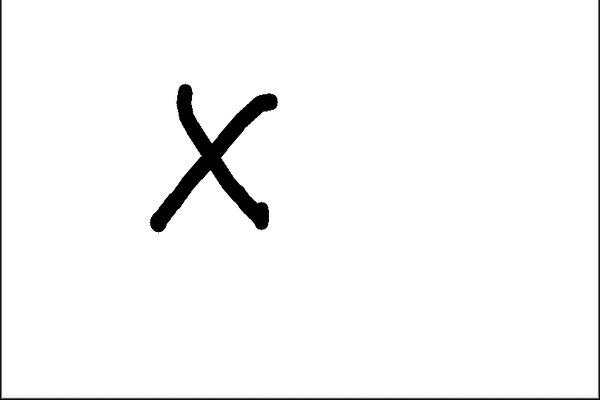X: (131, 71, 310, 243)
